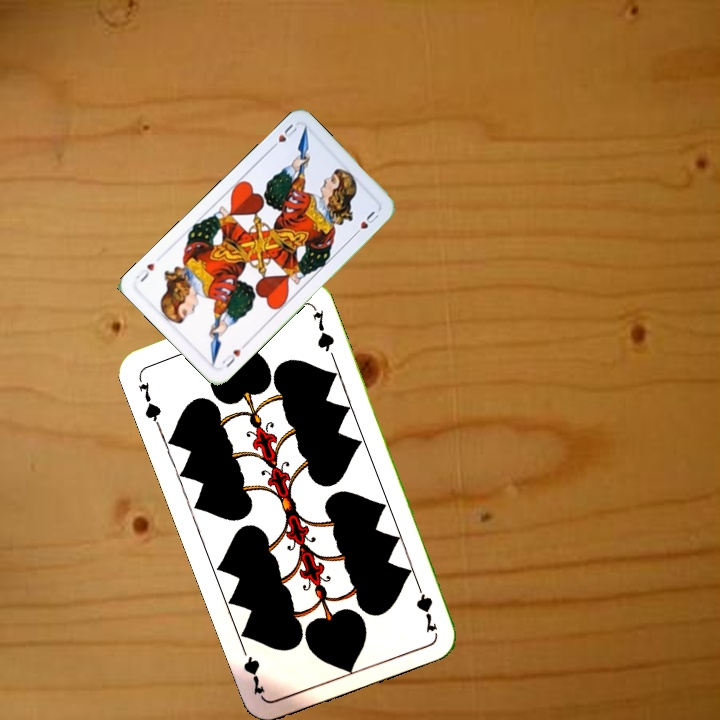G7: (133, 372, 164, 429), (411, 576, 440, 635)
HU: (266, 119, 300, 152), (218, 339, 249, 370)
